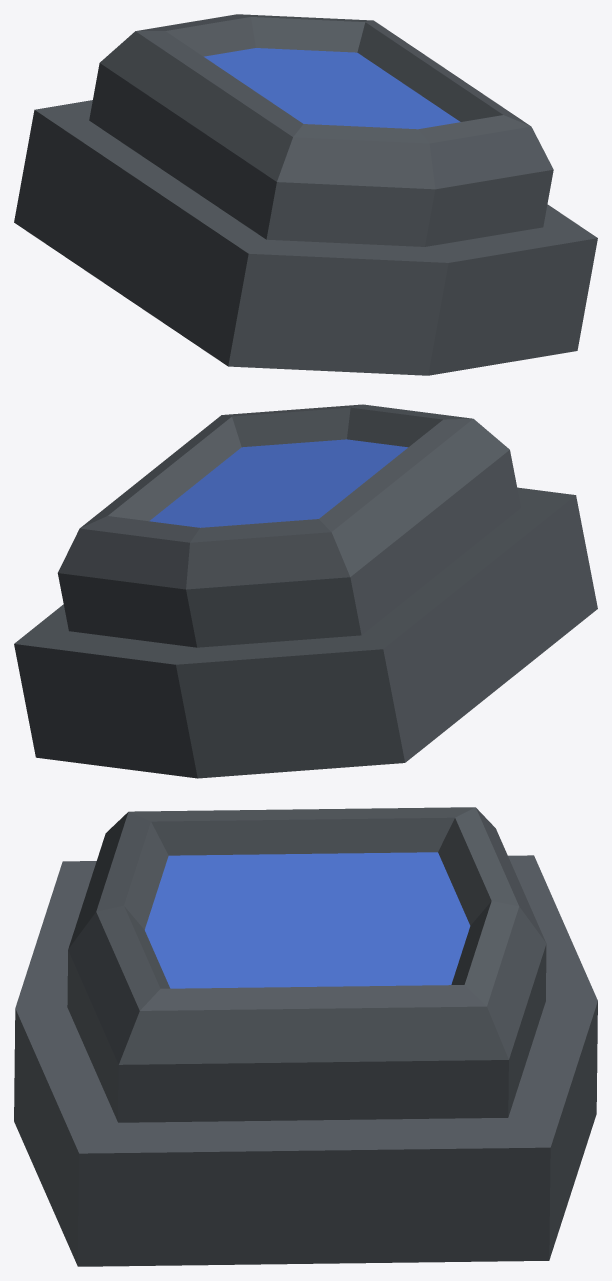
Rendered from Mothership_02_Detail_4_Blue.fbx.
3 views of the same model, one above another, from view 1: azimuth 30°, elevation 25°; view 2: azimuth 150°, elevation 25°; view 3: azimuth 270°, elevation 25° (orthographic). The views are drawn at different scales.
Parts seen in each view (by area): view 1: Mothership_02_Detail_4_Blue; view 2: Mothership_02_Detail_4_Blue; view 3: Mothership_02_Detail_4_Blue.
Boxes of the visible parts, left/top/right/bottom form: Mothership_02_Detail_4_Blue: left=14, top=14, right=597, bottom=375; Mothership_02_Detail_4_Blue: left=14, top=404, right=597, bottom=778; Mothership_02_Detail_4_Blue: left=14, top=807, right=597, bottom=1266.
Size of the model in its own units: 209 by 135 by 233.
Materials: 1 (1 with a texture image).
